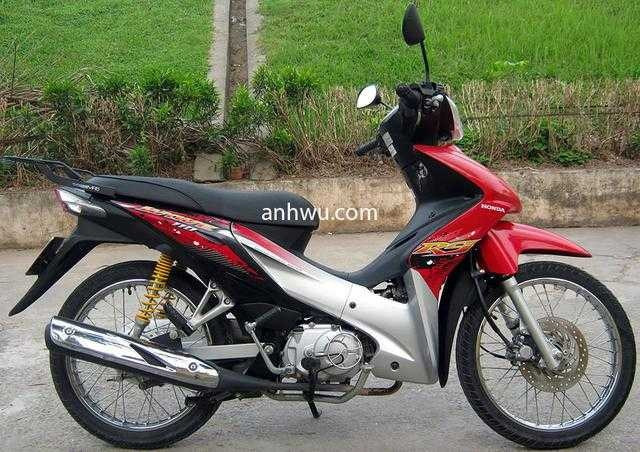motorbike: (2, 2, 637, 452)
